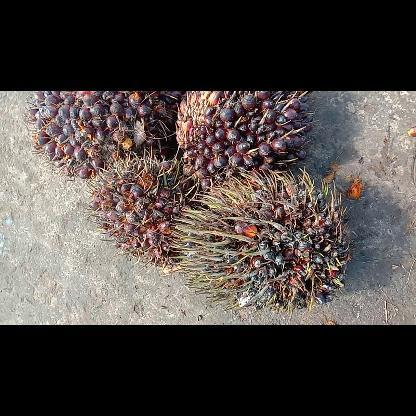Kurang masak: (172, 90, 314, 188), (92, 157, 198, 268)
TBS abnormal: (176, 170, 346, 302)
TBS masak: (26, 90, 172, 178)
